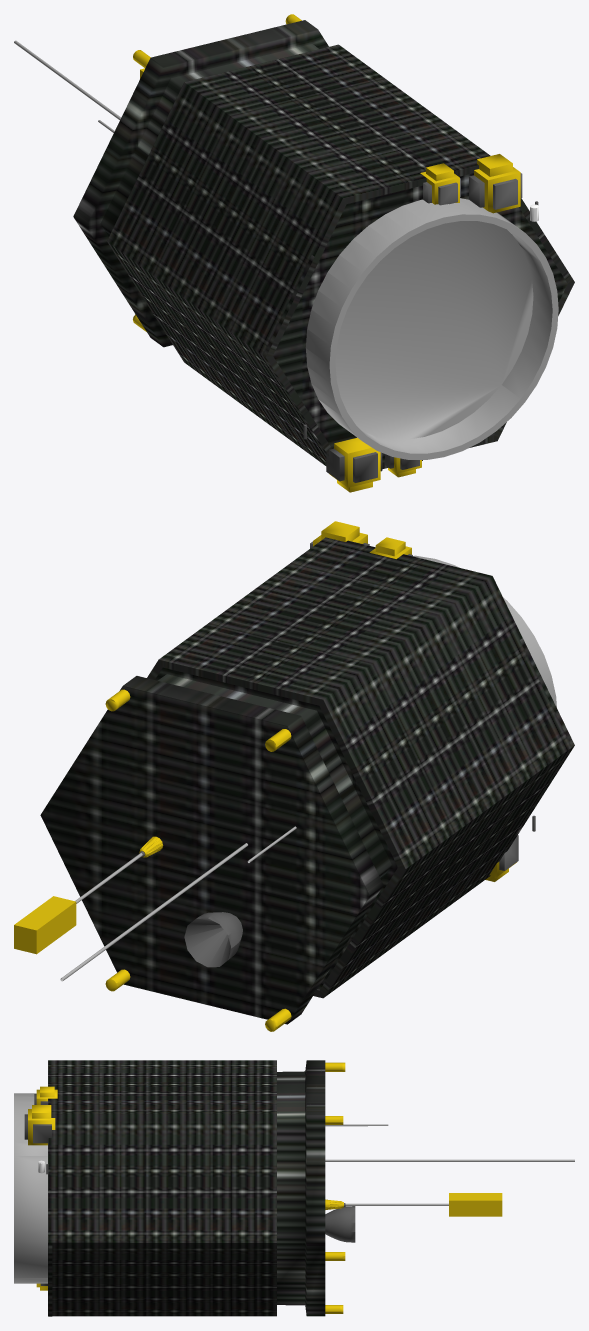
File: ralphie.obj
3 renders of one model, top to bottom at view 1: azimuth 30°, elevation 25°; view 2: azimuth 150°, elevation 25°; view 3: azimuth 270°, elevation 25°, orthographic. The views are drawn at different scales.
Parts seen in each view (by area): view 1: group19, group25, group28, group37, group27, group36, group15, group7, group26, group5, group13, group6; view 2: group37, group25, group28, group27, group38, group21, group19, group31, group36; view 3: group26, group24, group28, group37, group19, group21, group38, group31, group7, group36, group4.
Part boxes in pixels (x1=…): group19: x1=305, y1=198, x2=558, y2=459; group25: x1=107, y1=82, x2=346, y2=357; group28: x1=184, y1=44, x2=490, y2=203; group37: x1=73, y1=20, x2=328, y2=347; group27: x1=107, y1=241, x2=331, y2=465; group36: x1=263, y1=173, x2=567, y2=462; group15: x1=329, y1=437, x2=380, y2=487; group7: x1=474, y1=167, x2=520, y2=213; group26: x1=519, y1=198, x2=574, y2=283; group5: x1=493, y1=178, x2=517, y2=209; group13: x1=353, y1=452, x2=377, y2=482; group6: x1=477, y1=154, x2=512, y2=176; group37: x1=40, y1=667, x2=397, y2=1024; group25: x1=319, y1=576, x2=571, y2=869; group28: x1=158, y1=537, x2=491, y2=705; group27: x1=319, y1=748, x2=571, y2=998; group38: x1=184, y1=912, x2=242, y2=967; group21: x1=14, y1=896, x2=76, y2=954; group19: x1=413, y1=555, x2=556, y2=707; group31: x1=60, y1=843, x2=247, y2=981; group36: x1=490, y1=638, x2=574, y2=875; group26: x1=48, y1=1114, x2=276, y2=1242; group24: x1=48, y1=1242, x2=276, y2=1316; group28: x1=48, y1=1060, x2=276, y2=1114; group37: x1=277, y1=1060, x2=325, y2=1316; group19: x1=14, y1=1093, x2=47, y2=1283; group21: x1=449, y1=1193, x2=502, y2=1216; group38: x1=325, y1=1206, x2=355, y2=1242; group31: x1=325, y1=1159, x2=574, y2=1161; group7: x1=28, y1=1109, x2=55, y2=1145; group36: x1=48, y1=1243, x2=52, y2=1316; group4: x1=33, y1=1124, x2=51, y2=1143.
Size of the model in its own units: 0.4957 by 0.4491 by 1.08.
Materials: 5 (1 with a texture image).
